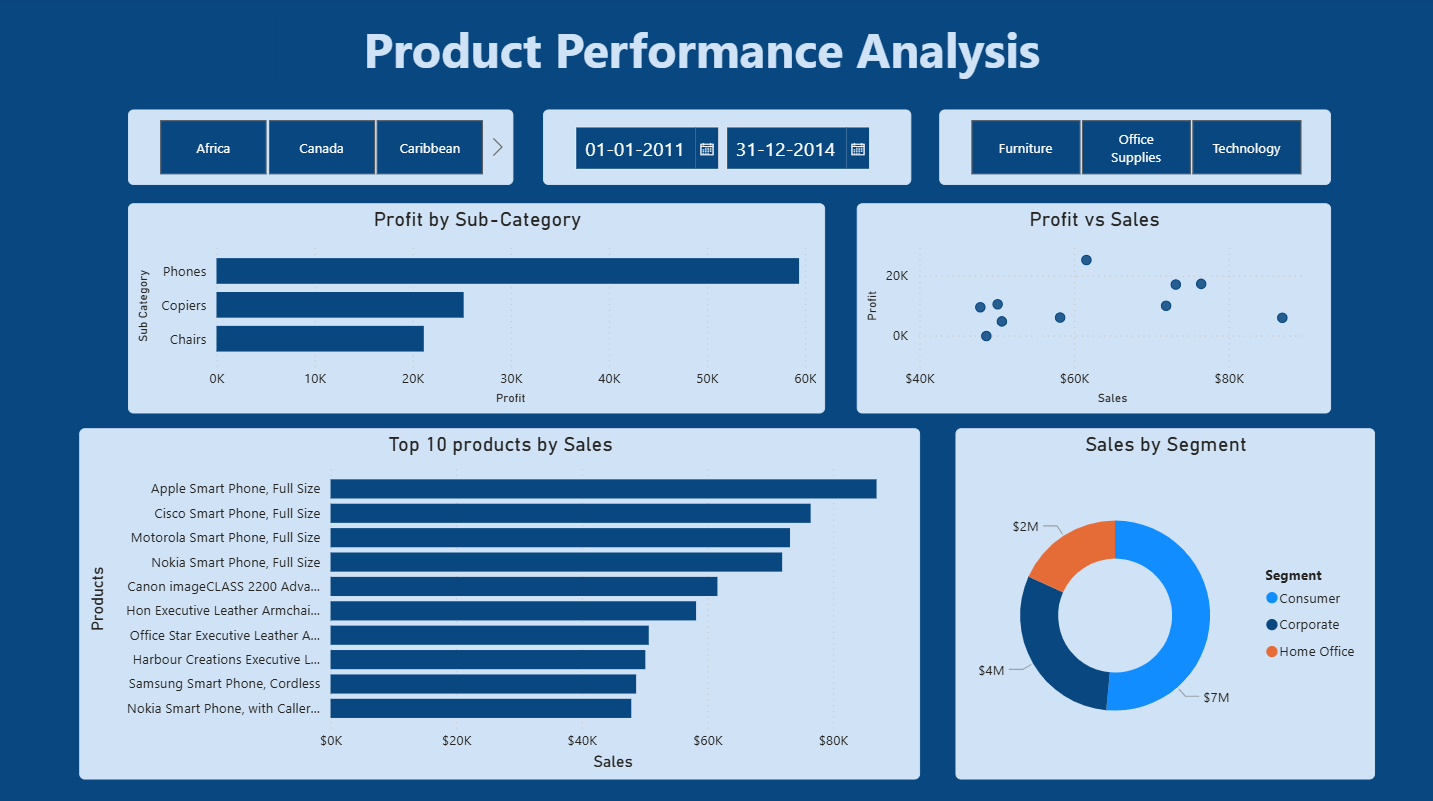

This screenshot's page, from the dashboard's own definition file:
{"tool":"powerbi","page":{"name":"Page 2","canvas":[1280,720],"ordinal":1},"visuals":[{"type":"barChart","title":"Top 10 products by Sales","fields":{"Category":["SuperStoreOrders.product_name"],"Y":["Sum(SuperStoreOrders.sales)"]},"box":[72.4,384,749.2,312.8],"z":0},{"type":"textbox","box":[247.7,12.8,759.3,67.4],"z":1000},{"type":"barChart","title":"Profit by Sub-Category","fields":{"Category":["SuperStoreOrders.sub_category"],"Y":["Sum(SuperStoreOrders.profit)"]},"box":[116.3,183.7,620.9,187.2],"z":2000},{"type":"donutChart","title":"Sales by Segment","fields":{"Y":["Sum(SuperStoreOrders.sales)"],"Category":["SuperStoreOrders.segment"]},"box":[852.1,384.2,373.2,312.9],"z":3000},{"type":"scatterChart","title":"Profit vs Sales","fields":{"Category":["SuperStoreOrders.product_name"],"X":["Sum(SuperStoreOrders.sales)"],"Y":["Sum(SuperStoreOrders.profit)"]},"box":[765.1,183.7,422.1,187.2],"z":4000},{"type":"slicer","fields":{"Values":["SuperStoreOrders.region"]},"box":[116.3,100,343,67.4],"z":5000},{"type":"slicer","fields":{"Values":["SuperStoreOrders.order_date"]},"box":[484.9,100,327.9,67.4],"z":6000},{"type":"slicer","fields":{"Values":["SuperStoreOrders.category"]},"box":[838.4,100,348.8,67.4],"z":7000}]}

Visuals, with their boxes in screenshot pixels (x1, y1, x2, y2), scaled from the page's 1280x720 canvas onto the 1433x801 screenshot:
"Top 10 products by Sales" barChart: 81/427/920/775
textbox: 277/14/1127/89
"Profit by Sub-Category" barChart: 130/204/825/413
"Sales by Segment" donutChart: 954/427/1372/776
"Profit vs Sales" scatterChart: 857/204/1329/413
slicer - SuperStoreOrders.region: 130/111/514/186
slicer - SuperStoreOrders.order_date: 543/111/910/186
slicer - SuperStoreOrders.category: 939/111/1329/186
